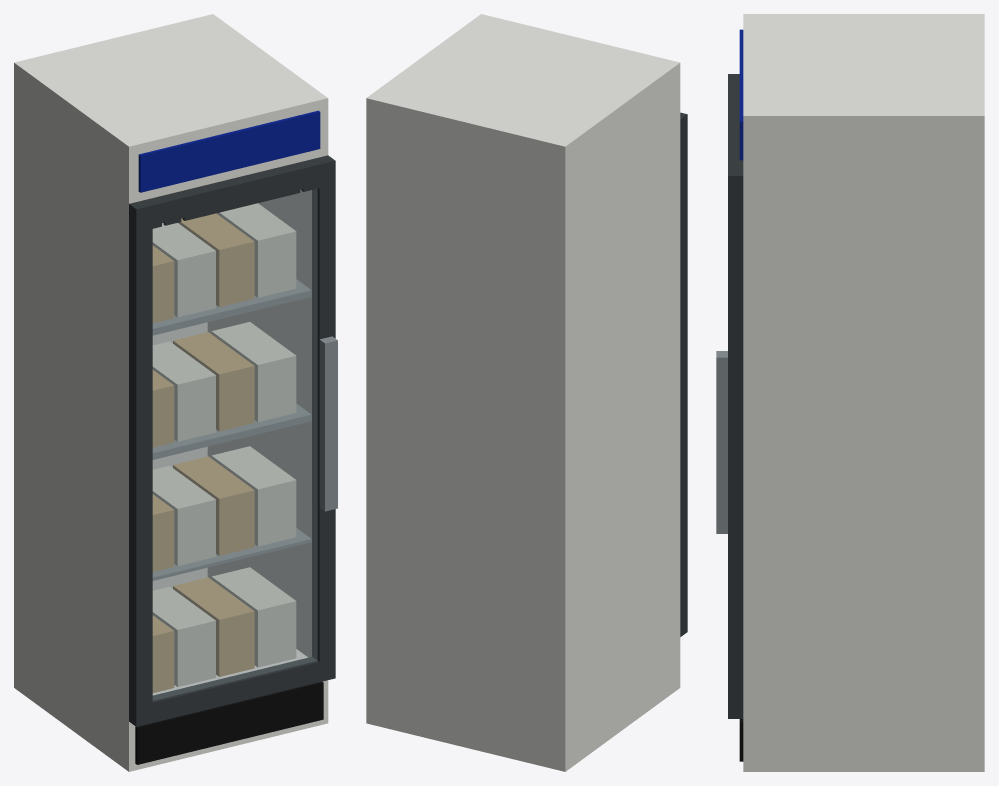
File: glass_freezer.glb
The picture shows the model from 3 angles, left to right: view 1: azimuth 30°, elevation 25°; view 2: azimuth 150°, elevation 25°; view 3: azimuth 270°, elevation 25°; orthographic projection. The views are drawn at different scales.
Parts seen in each view (by area): view 1: glass_freezer:compound; view 2: glass_freezer:compound; view 3: glass_freezer:compound.
Boxes of the visible parts, box(x1,y1,x2,y2) form: glass_freezer:compound: box(14, 14, 337, 771); glass_freezer:compound: box(366, 14, 687, 771); glass_freezer:compound: box(716, 14, 984, 771).
Size of the model in its own units: 0.62 by 1.86 by 0.69.
